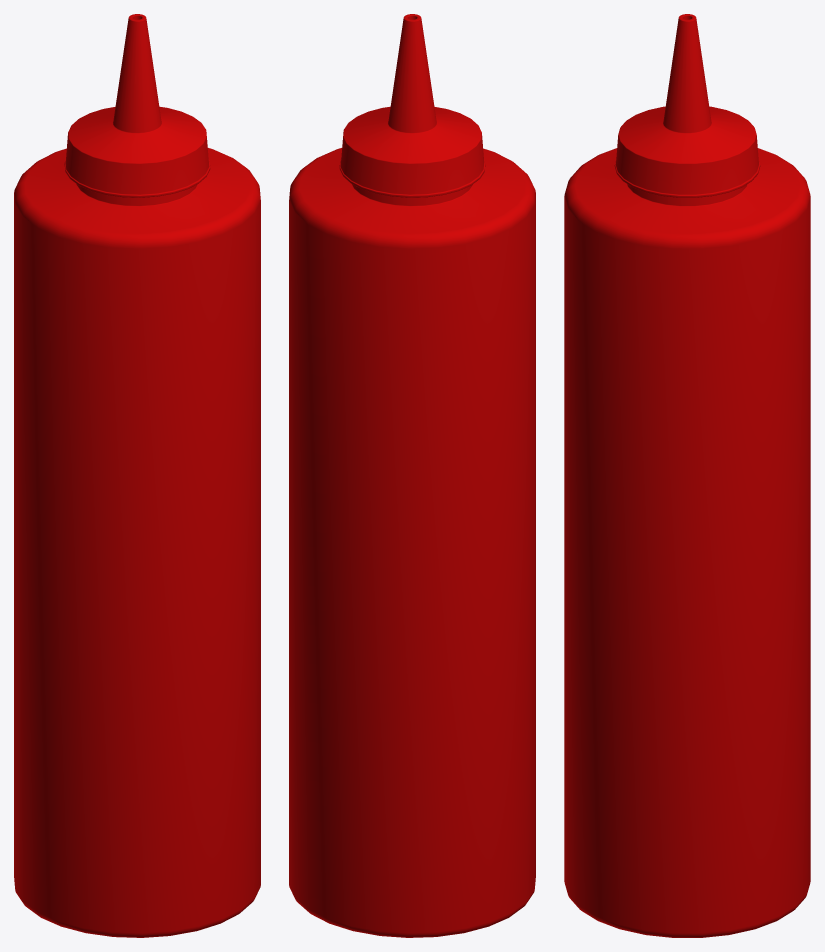
File: BottleKetchup.fbx
3 views of the same model, side by side, from view 1: azimuth 30°, elevation 25°; view 2: azimuth 150°, elevation 25°; view 3: azimuth 270°, elevation 25° (orthographic).
Parts seen in each view (by area): view 1: plastic bottle; view 2: plastic bottle; view 3: plastic bottle.
Part boxes in pixels (bbox=[...]): plastic bottle: bbox=[14, 14, 260, 937]; plastic bottle: bbox=[289, 14, 535, 937]; plastic bottle: bbox=[564, 14, 810, 937].
Size of the model in its own units: 7 by 27.31 by 7.
